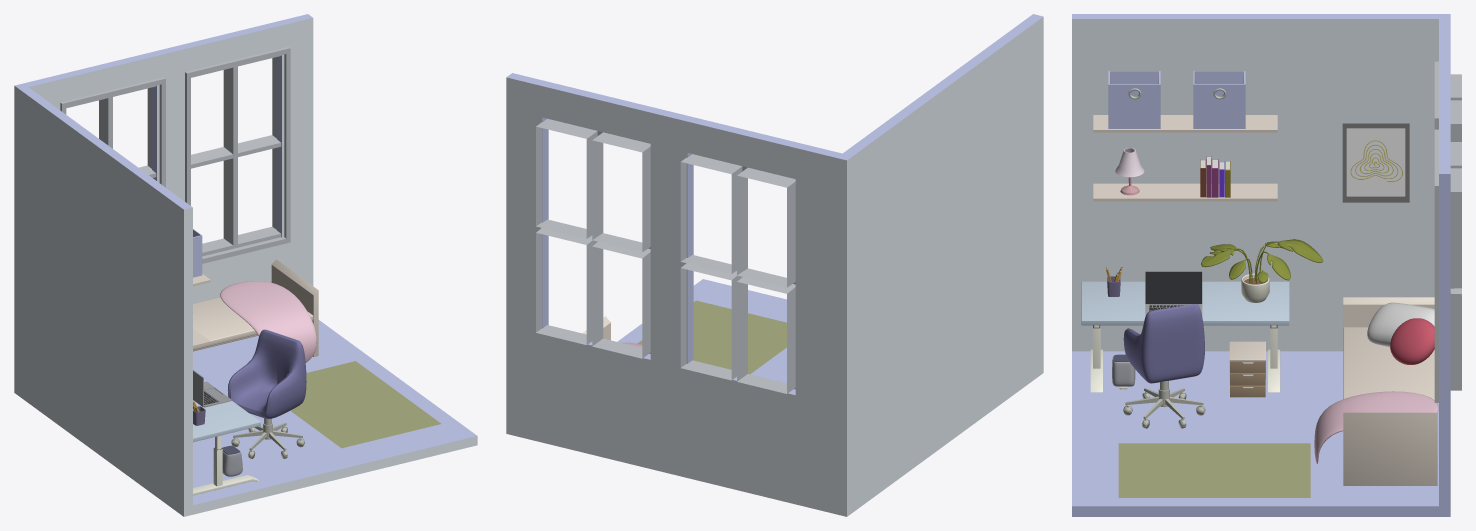
Rendered from finalWebsiteRoom.glb.
3 renders of one model, left to right at view 1: azimuth 30°, elevation 25°; view 2: azimuth 150°, elevation 25°; view 3: azimuth 270°, elevation 25°, orthographic. The views are drawn at different scales.
Parts seen in each view (by area): view 1: Room, Window00, Rug, ChairSeat, Blanket, Window01, Cube, TableTop, Cube.001; view 2: Room, Window01, Window00, Rug; view 3: Room, Rug, Cube.001, TableTop, Poster, ChairSeat, Window00, Cube, Shelf0, Box00.001, Box00, Blanket (+14 smaller).
Boxes of the visible parts, bbox=[...] form: Room: bbox=[14, 14, 477, 516]; Window00: bbox=[185, 47, 290, 263]; Rug: bbox=[290, 361, 441, 448]; ChairSeat: bbox=[227, 329, 306, 418]; Blanket: bbox=[220, 281, 316, 362]; Window01: bbox=[60, 77, 165, 187]; Cube: bbox=[193, 297, 313, 351]; TableTop: bbox=[193, 380, 260, 442]; Cube.001: bbox=[271, 259, 318, 356]; Room: bbox=[506, 14, 1043, 516]; Window01: bbox=[680, 154, 795, 393]; Window00: bbox=[536, 118, 650, 358]; Rug: bbox=[637, 300, 786, 374]; Room: bbox=[1072, 14, 1450, 516]; Rug: bbox=[1118, 443, 1310, 497]; Cube.001: bbox=[1343, 297, 1437, 485]; TableTop: bbox=[1081, 281, 1289, 325]; Poster: bbox=[1342, 123, 1409, 202]; ChairSeat: bbox=[1123, 304, 1204, 383]; Window00: bbox=[1434, 129, 1461, 402]; Cube: bbox=[1343, 327, 1437, 403]; Shelf0: bbox=[1093, 183, 1277, 201]; Box00.001: bbox=[1108, 71, 1160, 128]; Box00: bbox=[1193, 71, 1245, 128]; Blanket: bbox=[1314, 391, 1438, 463].
Bounding box in the file's own units: 25.41 × 25.41 × 26.18.
Materials: 38 (1 with a texture image).
